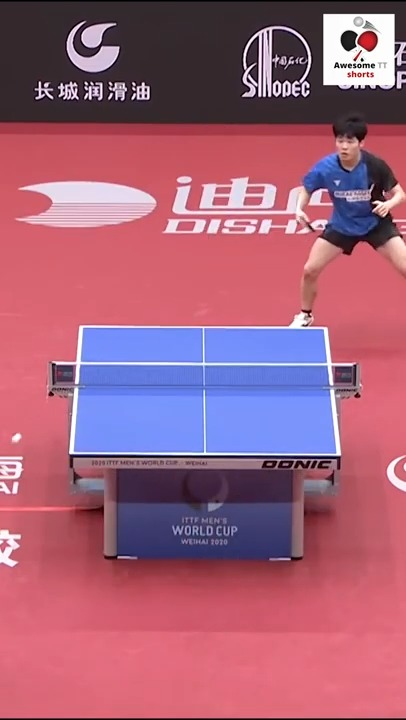Ball: (12, 437, 22, 446)
